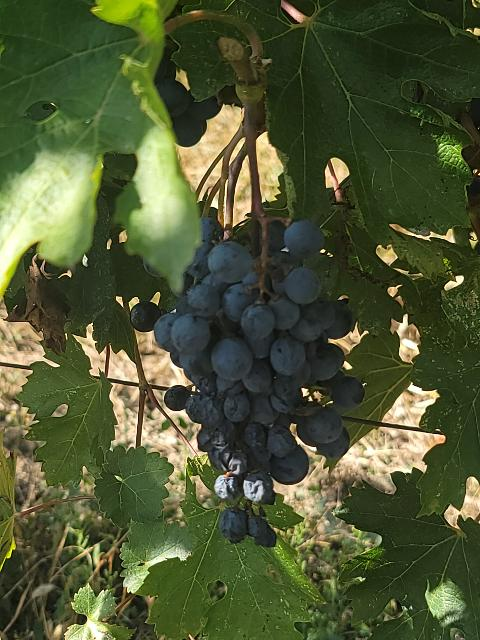grapes: (154, 201, 365, 549)
